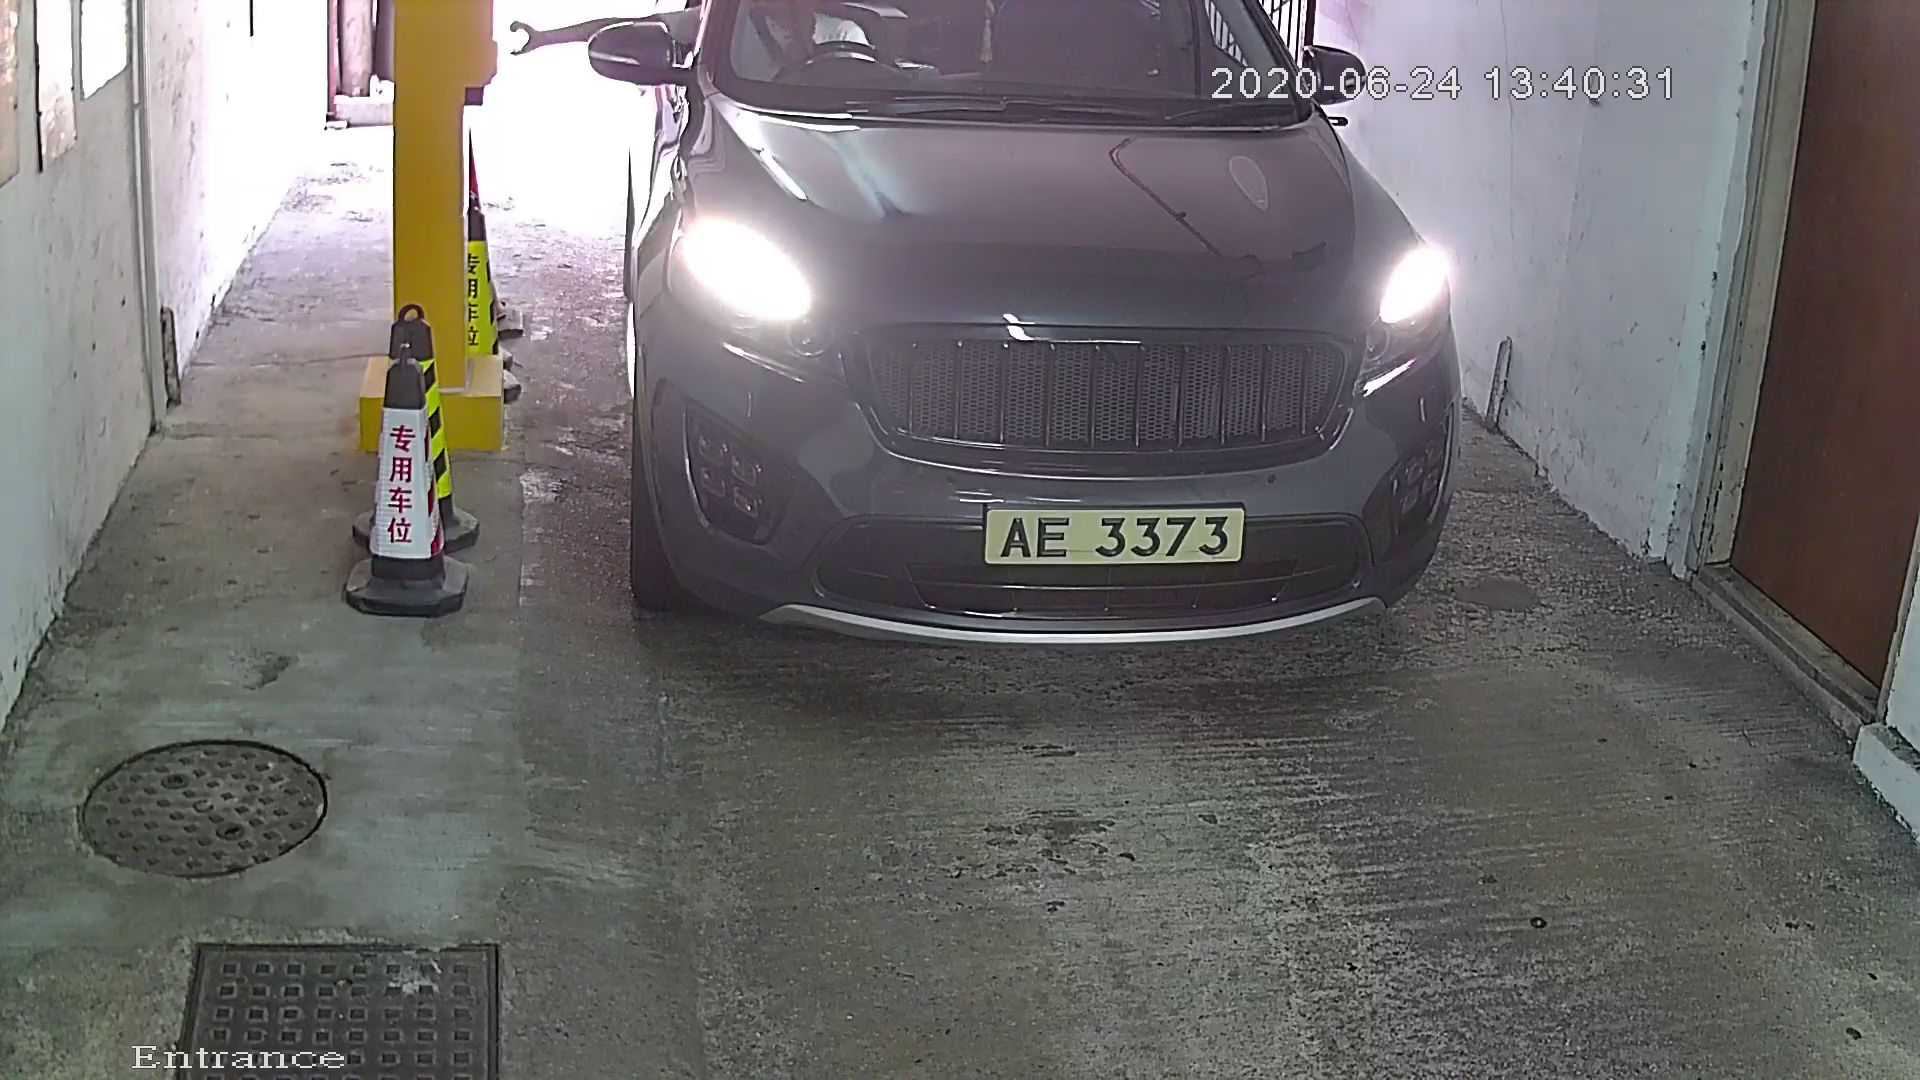Car: (575, 1, 1504, 728)
License Plate: (958, 488, 1282, 590)
